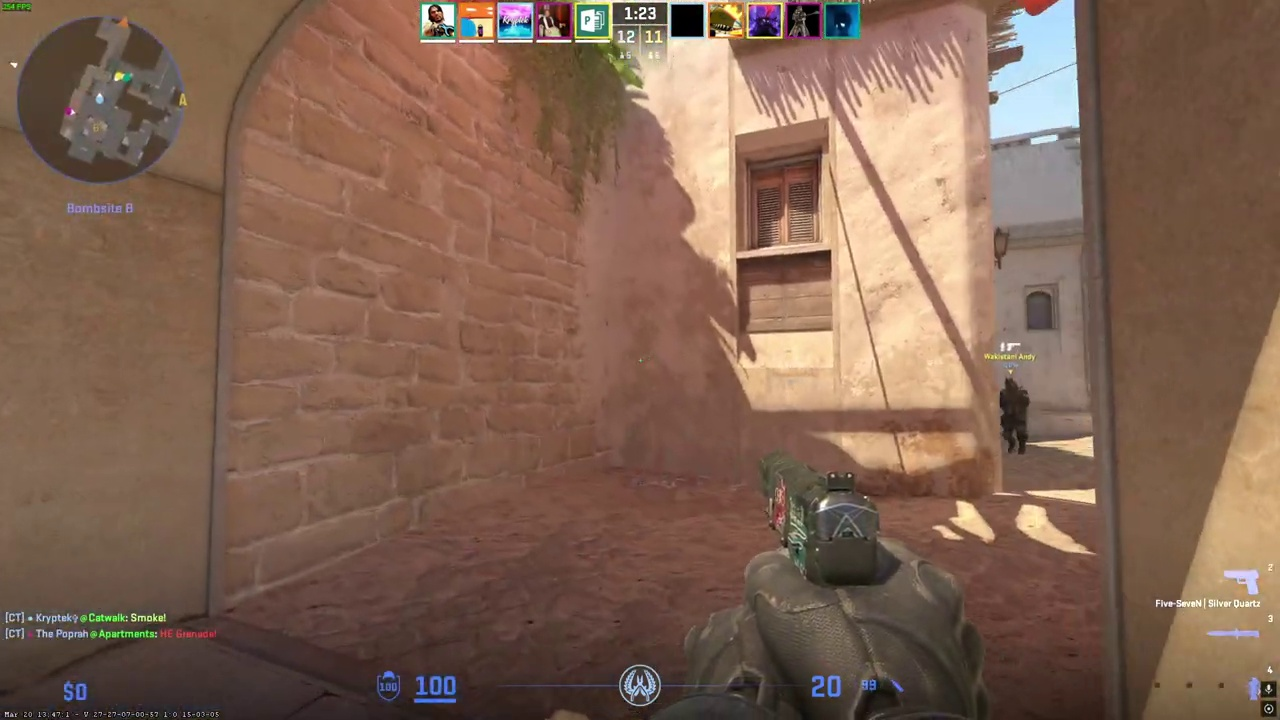CT: (998, 377, 1030, 455)
